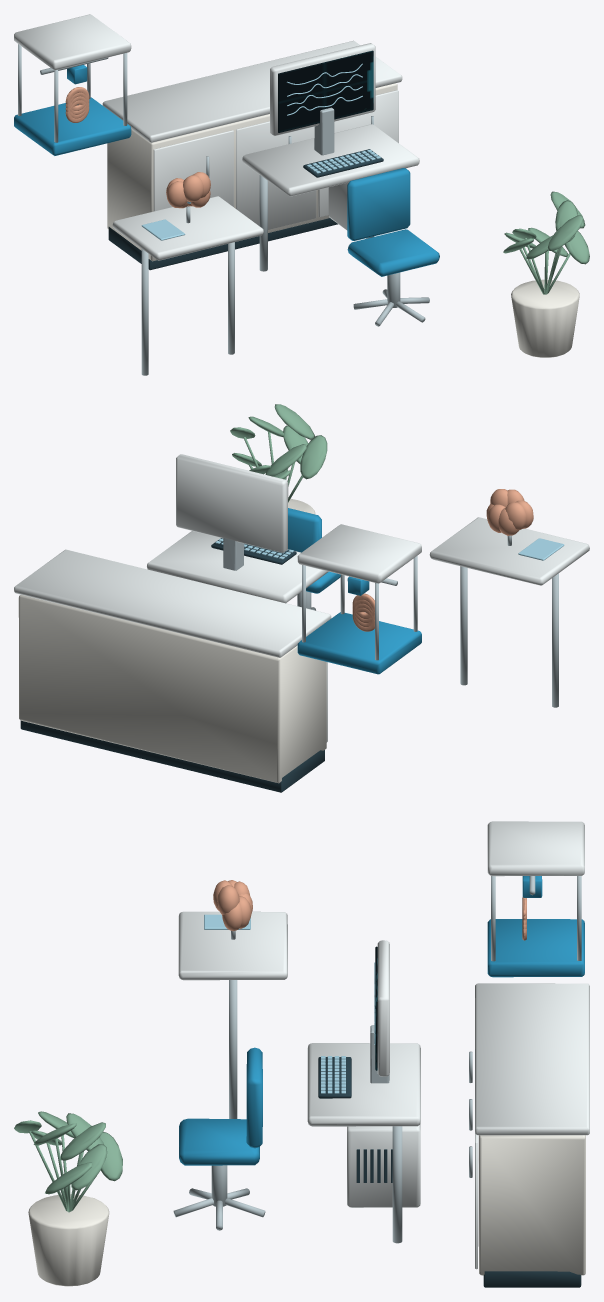
The model's file is consult-lod.glb.
3 views of the same model, one above another, from view 1: azimuth 30°, elevation 25°; view 2: azimuth 150°, elevation 25°; view 3: azimuth 270°, elevation 25° (orthographic). The views are drawn at different scales.
Parts seen in each view (by area): view 1: consult__Powder coat • warm porcelain, consult__Satin cobalt plastic, consult__Cabinet ivory, consult__Brushed aluminium, consult__Diagnostic glass • fictional, consult__Sage foliage, consult__Rubber and screen bezel, consult__Warm clay accent, consult__Pale blue polymer; view 2: consult__Powder coat • warm porcelain, consult__Cabinet ivory, consult__Satin cobalt plastic, consult__Brushed aluminium, consult__Sage foliage, consult__Rubber and screen bezel, consult__Warm clay accent, consult__Pale blue polymer; view 3: consult__Powder coat • warm porcelain, consult__Cabinet ivory, consult__Satin cobalt plastic, consult__Brushed aluminium, consult__Sage foliage, consult__Rubber and screen bezel, consult__Warm clay accent, consult__Pale blue polymer.
Part boxes in pixels (x1,y1,x2,y2): consult__Powder coat • warm porcelain: (14,14,419,260); consult__Satin cobalt plastic: (14,64,439,276); consult__Cabinet ivory: (107,83,579,357); consult__Brushed aluminium: (18,44,429,375); consult__Diagnostic glass • fictional: (278,50,373,132); consult__Sage foliage: (503,191,589,294); consult__Rubber and screen bezel: (108,149,383,270); consult__Warm clay accent: (65,87,210,208); consult__Pale blue polymer: (141,63,380,240); consult__Powder coat • warm porcelain: (14,454,589,742); consult__Cabinet ivory: (18,499,326,783); consult__Satin cobalt plastic: (288,508,421,674); consult__Brushed aluminium: (223,535,558,707); consult__Sage foliage: (230,404,327,502); consult__Rubber and screen bezel: (20,538,324,792); consult__Warm clay accent: (352,489,533,631); consult__Pale blue polymer: (215,538,564,560); consult__Powder coat • warm porcelain: (178,821,589,1269); consult__Cabinet ivory: (28,1135,585,1286); consult__Satin cobalt plastic: (179,876,584,1165); consult__Brushed aluminium: (173,876,581,1243); consult__Sage foliage: (14,1111,122,1212); consult__Rubber and screen bezel: (318,1057,581,1287); consult__Warm clay accent: (213,880,526,940); consult__Pale blue polymer: (204,914,375,1093).
Bounding box in the file's own units: 2.65 × 1.54 × 2.95.
10 materials, 2 textured.
